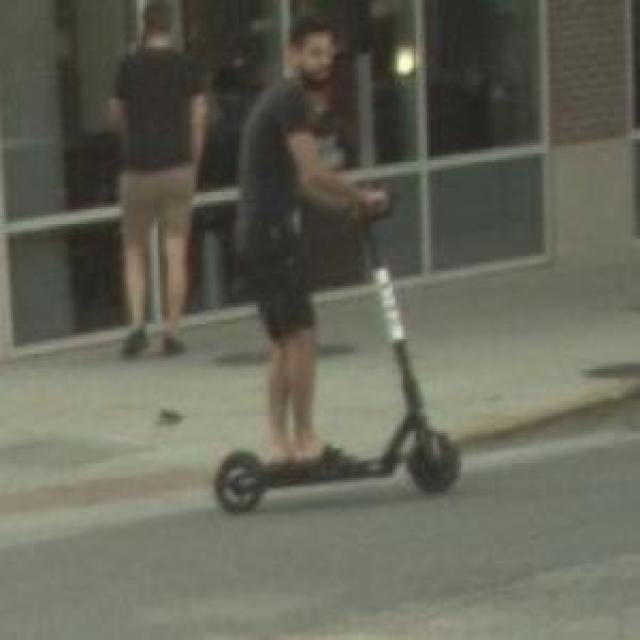pedestrian: (215, 18, 461, 515), (107, 0, 207, 361)
